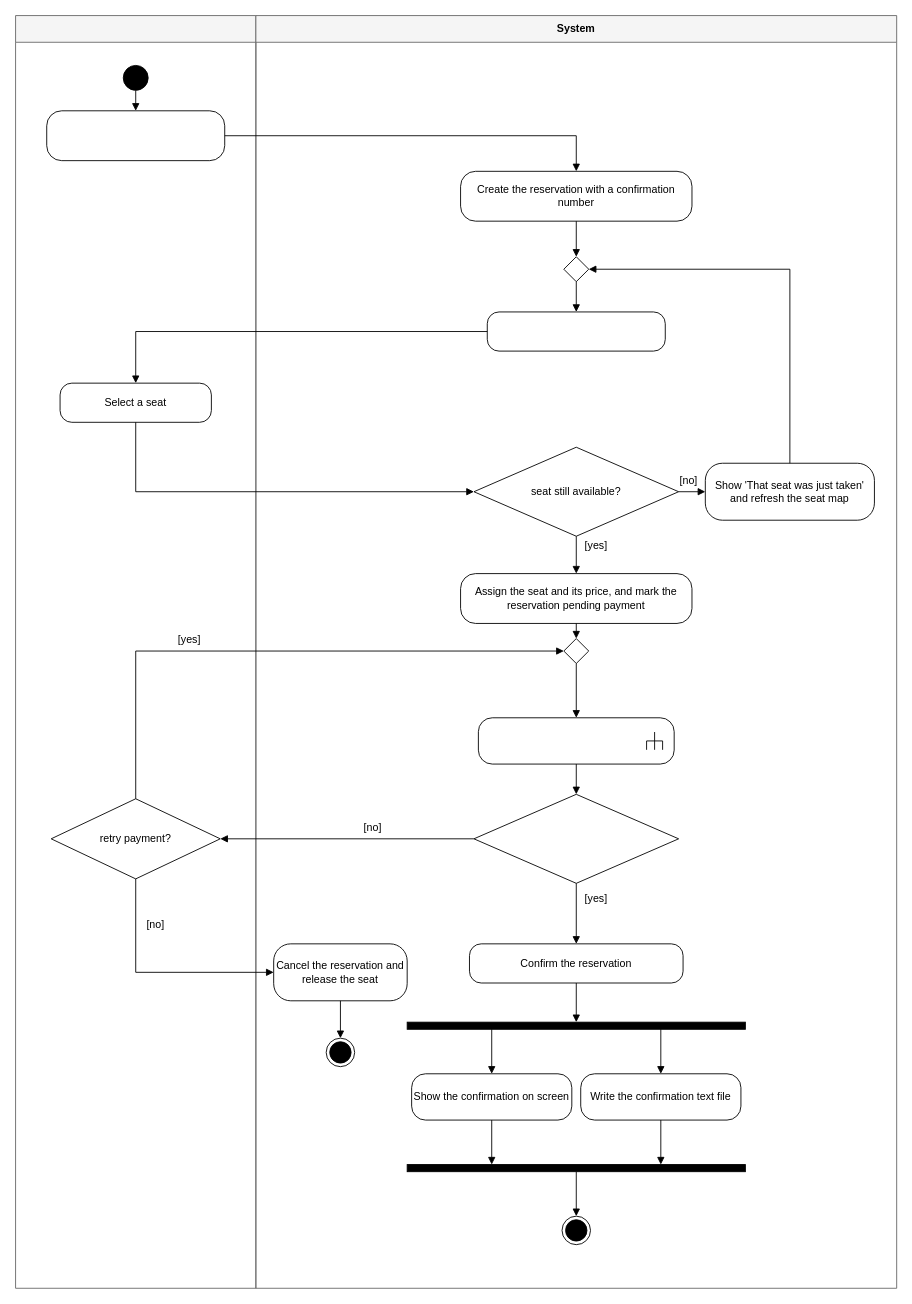
The diagram is 912 pixels wide and 1304 high, and some of its shapes have lost their labels. Each missing label, with the box of its shape:
Choose Book Flight for the selected flight: (46, 110, 225, 161)
Make a payment: (477, 717, 674, 764)
payment approved?: (473, 793, 679, 883)
Show the seat map: (486, 311, 665, 351)
User: (15, 15, 256, 1288)
